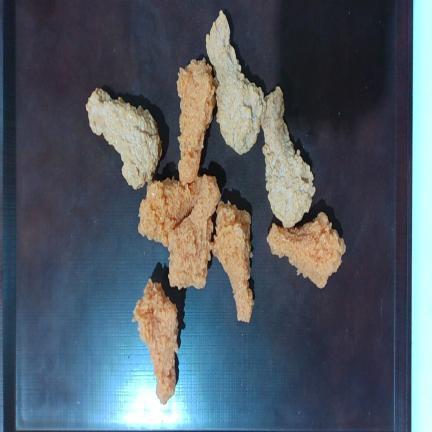chicken: (206, 11, 265, 154), (86, 88, 161, 189), (262, 86, 315, 227), (267, 212, 346, 288), (168, 176, 220, 289), (133, 279, 178, 403), (211, 200, 254, 322), (177, 59, 216, 182), (138, 178, 202, 247)
